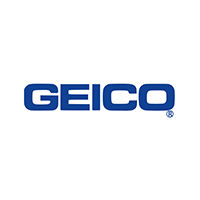geico: (23, 81, 179, 118)
